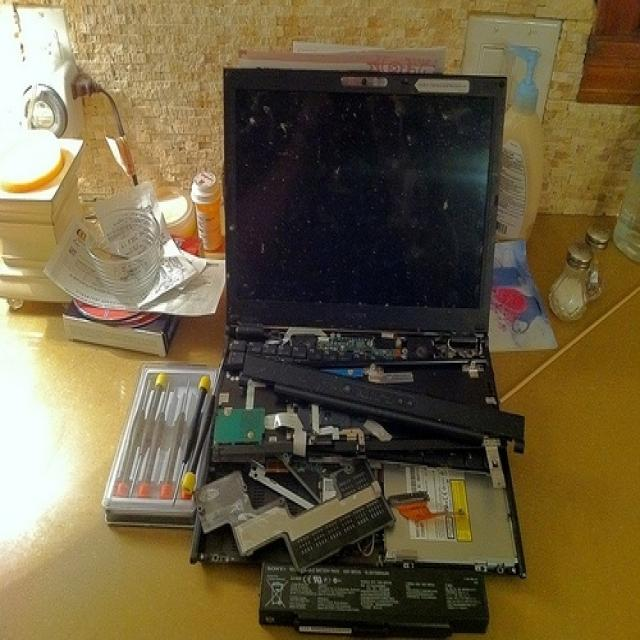E-waste: (8, 22, 537, 640)
Glass: (555, 220, 614, 342)
